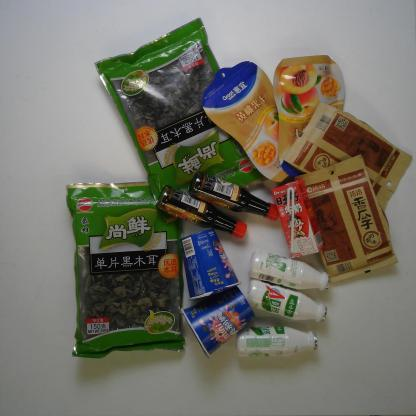Dessert: (179, 284, 257, 360), (178, 228, 244, 302)
Dried Food: (93, 16, 272, 226), (64, 180, 189, 360), (282, 100, 414, 214), (291, 152, 399, 286)
Dried Fruit: (199, 58, 291, 184), (270, 53, 346, 179)
Milk: (269, 176, 325, 260), (245, 277, 329, 323), (247, 249, 332, 293), (234, 324, 320, 360)
Seasoner: (154, 184, 249, 240), (187, 170, 281, 222)
